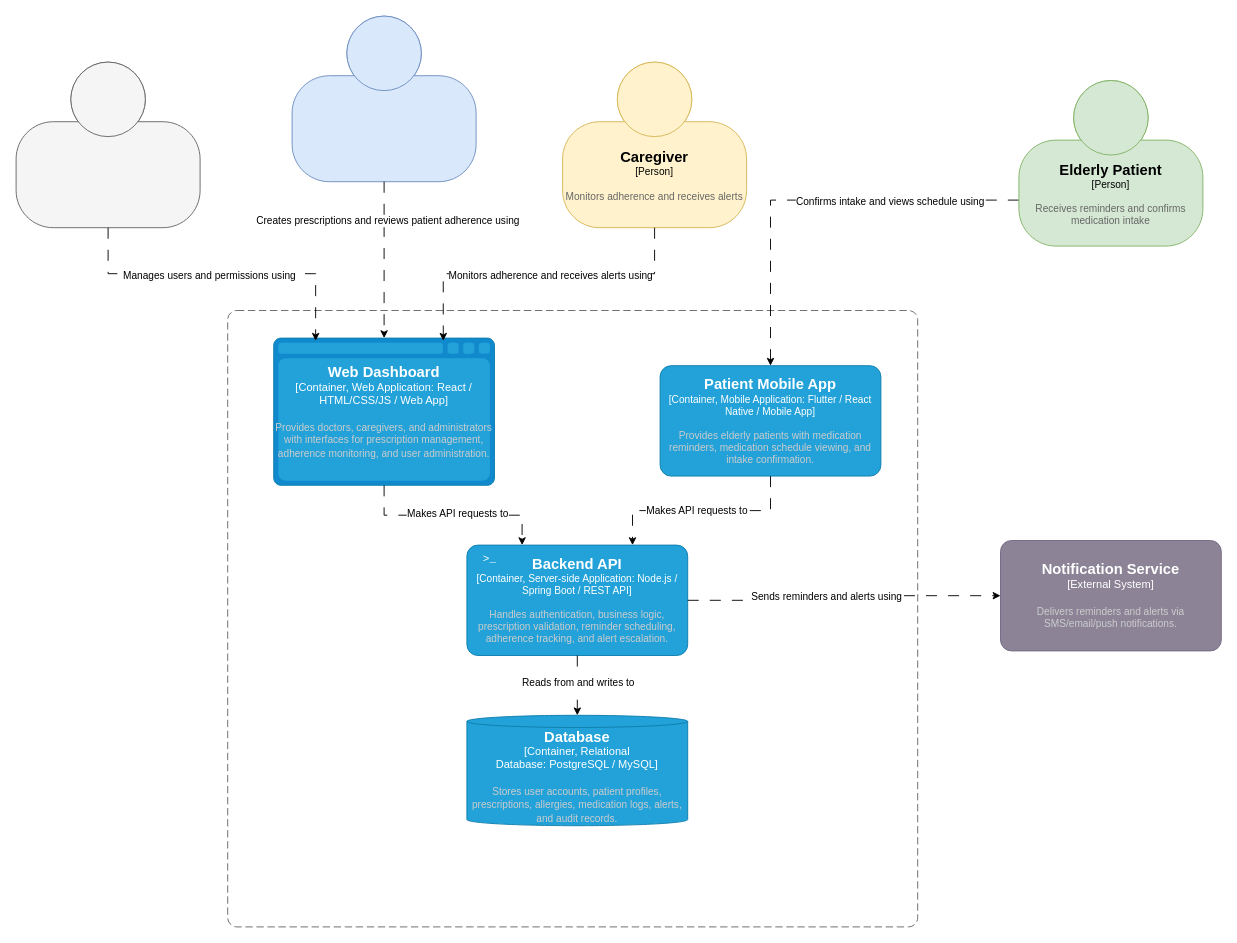
Image size: 1237x943. Some labels were removed from this diagram. The box of each missing label's shape, as (x1, y1, x2, y2) in pixels:
Admin [Person] Manages users and permissions: (15, 61, 200, 228)
Doctor [Person] Creates prescriptions and manages treatment: (291, 15, 476, 182)
ElderCare Medication Reminder System [Software System]: (227, 310, 918, 927)
